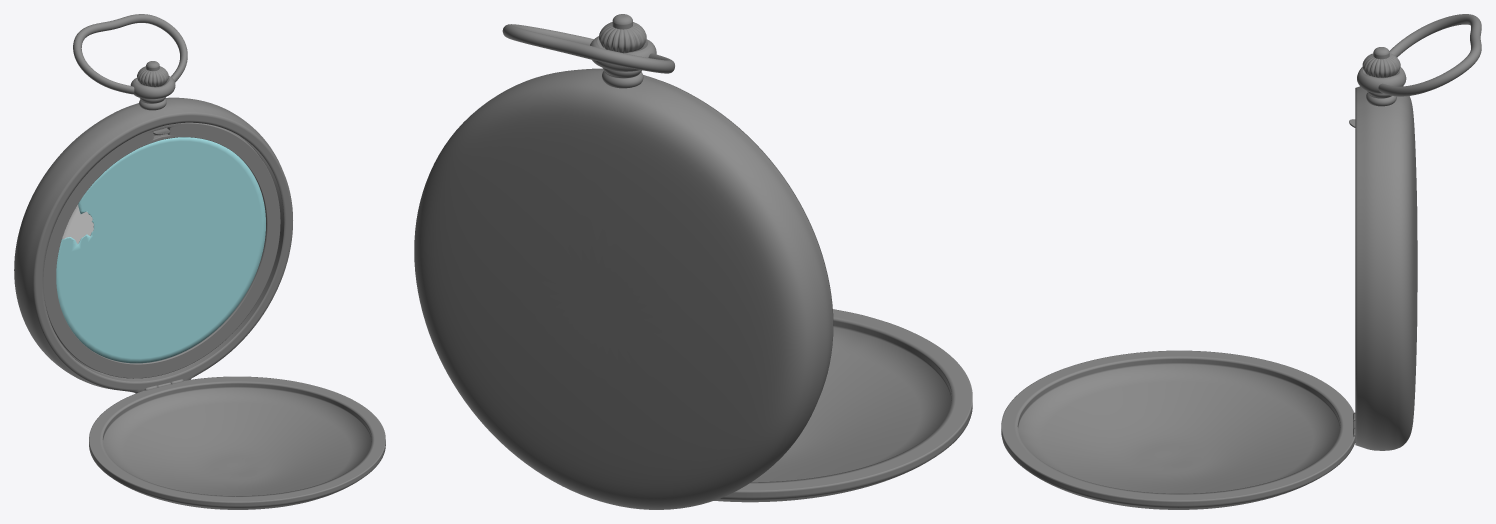
File: Pocket_Watch.fbx
The picture shows the model from 3 angles, left to right: view 1: azimuth 30°, elevation 25°; view 2: azimuth 150°, elevation 25°; view 3: azimuth 270°, elevation 25°; orthographic projection. The views are drawn at different scales.
Visible parts, largest first — view 1: Pocket_Watch; view 2: Pocket_Watch; view 3: Pocket_Watch.
Part boxes in pixels (x1,y1,x2,y2): Pocket_Watch: [14, 14, 385, 509]; Pocket_Watch: [414, 14, 972, 509]; Pocket_Watch: [1001, 14, 1481, 509].
Bounding box in the file's own units: 513 × 658 × 668.
